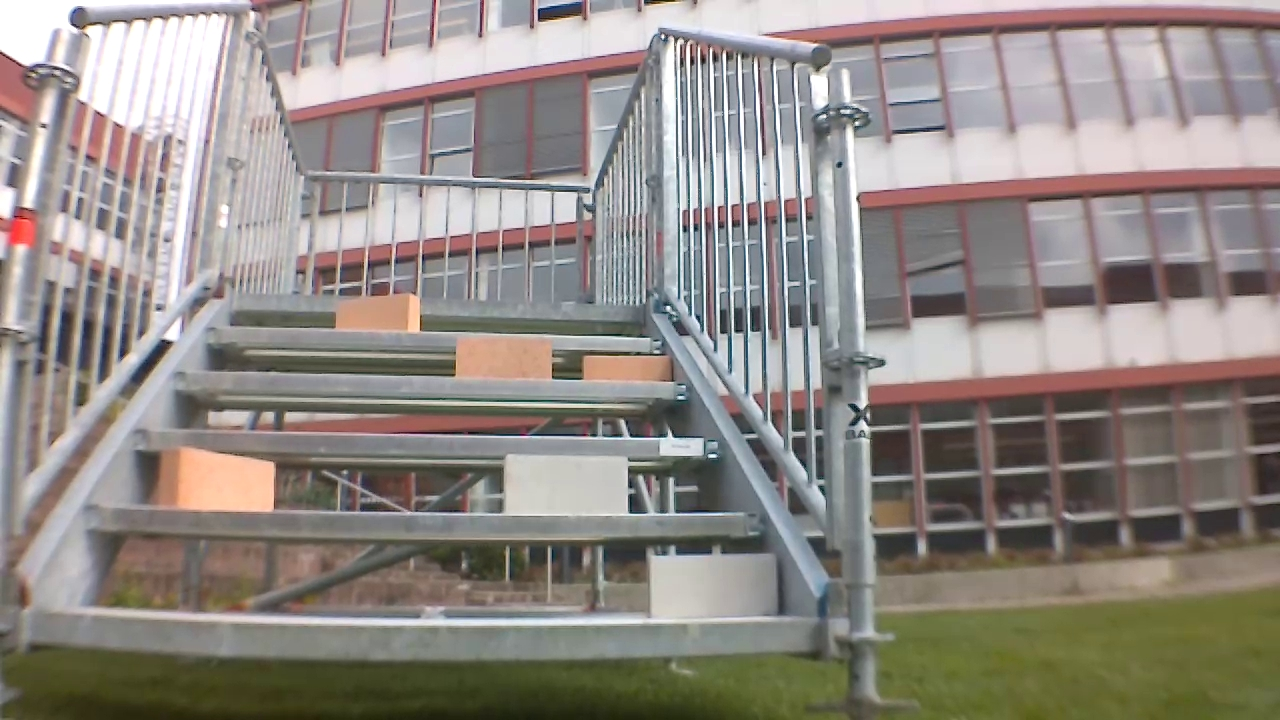brick: (647, 555, 778, 617), (503, 454, 625, 512), (162, 448, 274, 509), (456, 338, 551, 378), (334, 294, 420, 330), (583, 356, 669, 379)
edge: (27, 610, 823, 660), (84, 505, 765, 538), (133, 424, 722, 458), (172, 368, 691, 399), (208, 325, 664, 354), (234, 292, 643, 321)
stairs: (2, 1, 897, 711)
steps: (24, 289, 828, 675)
